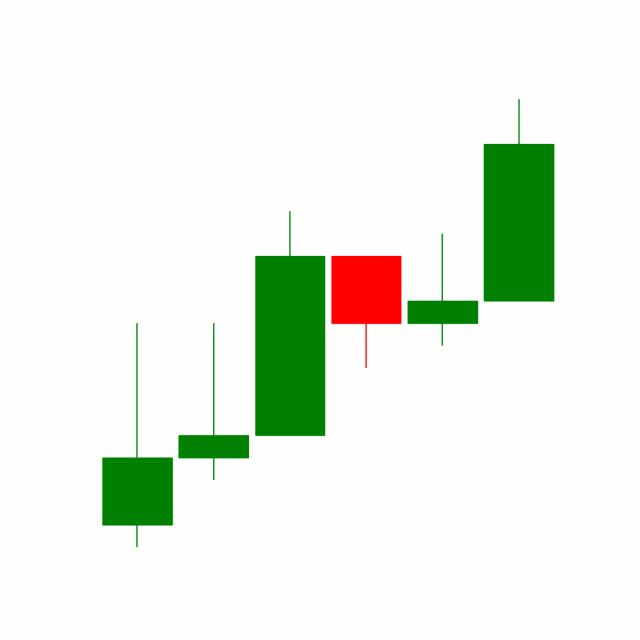Gravestone Doji: (403, 231, 481, 347)
